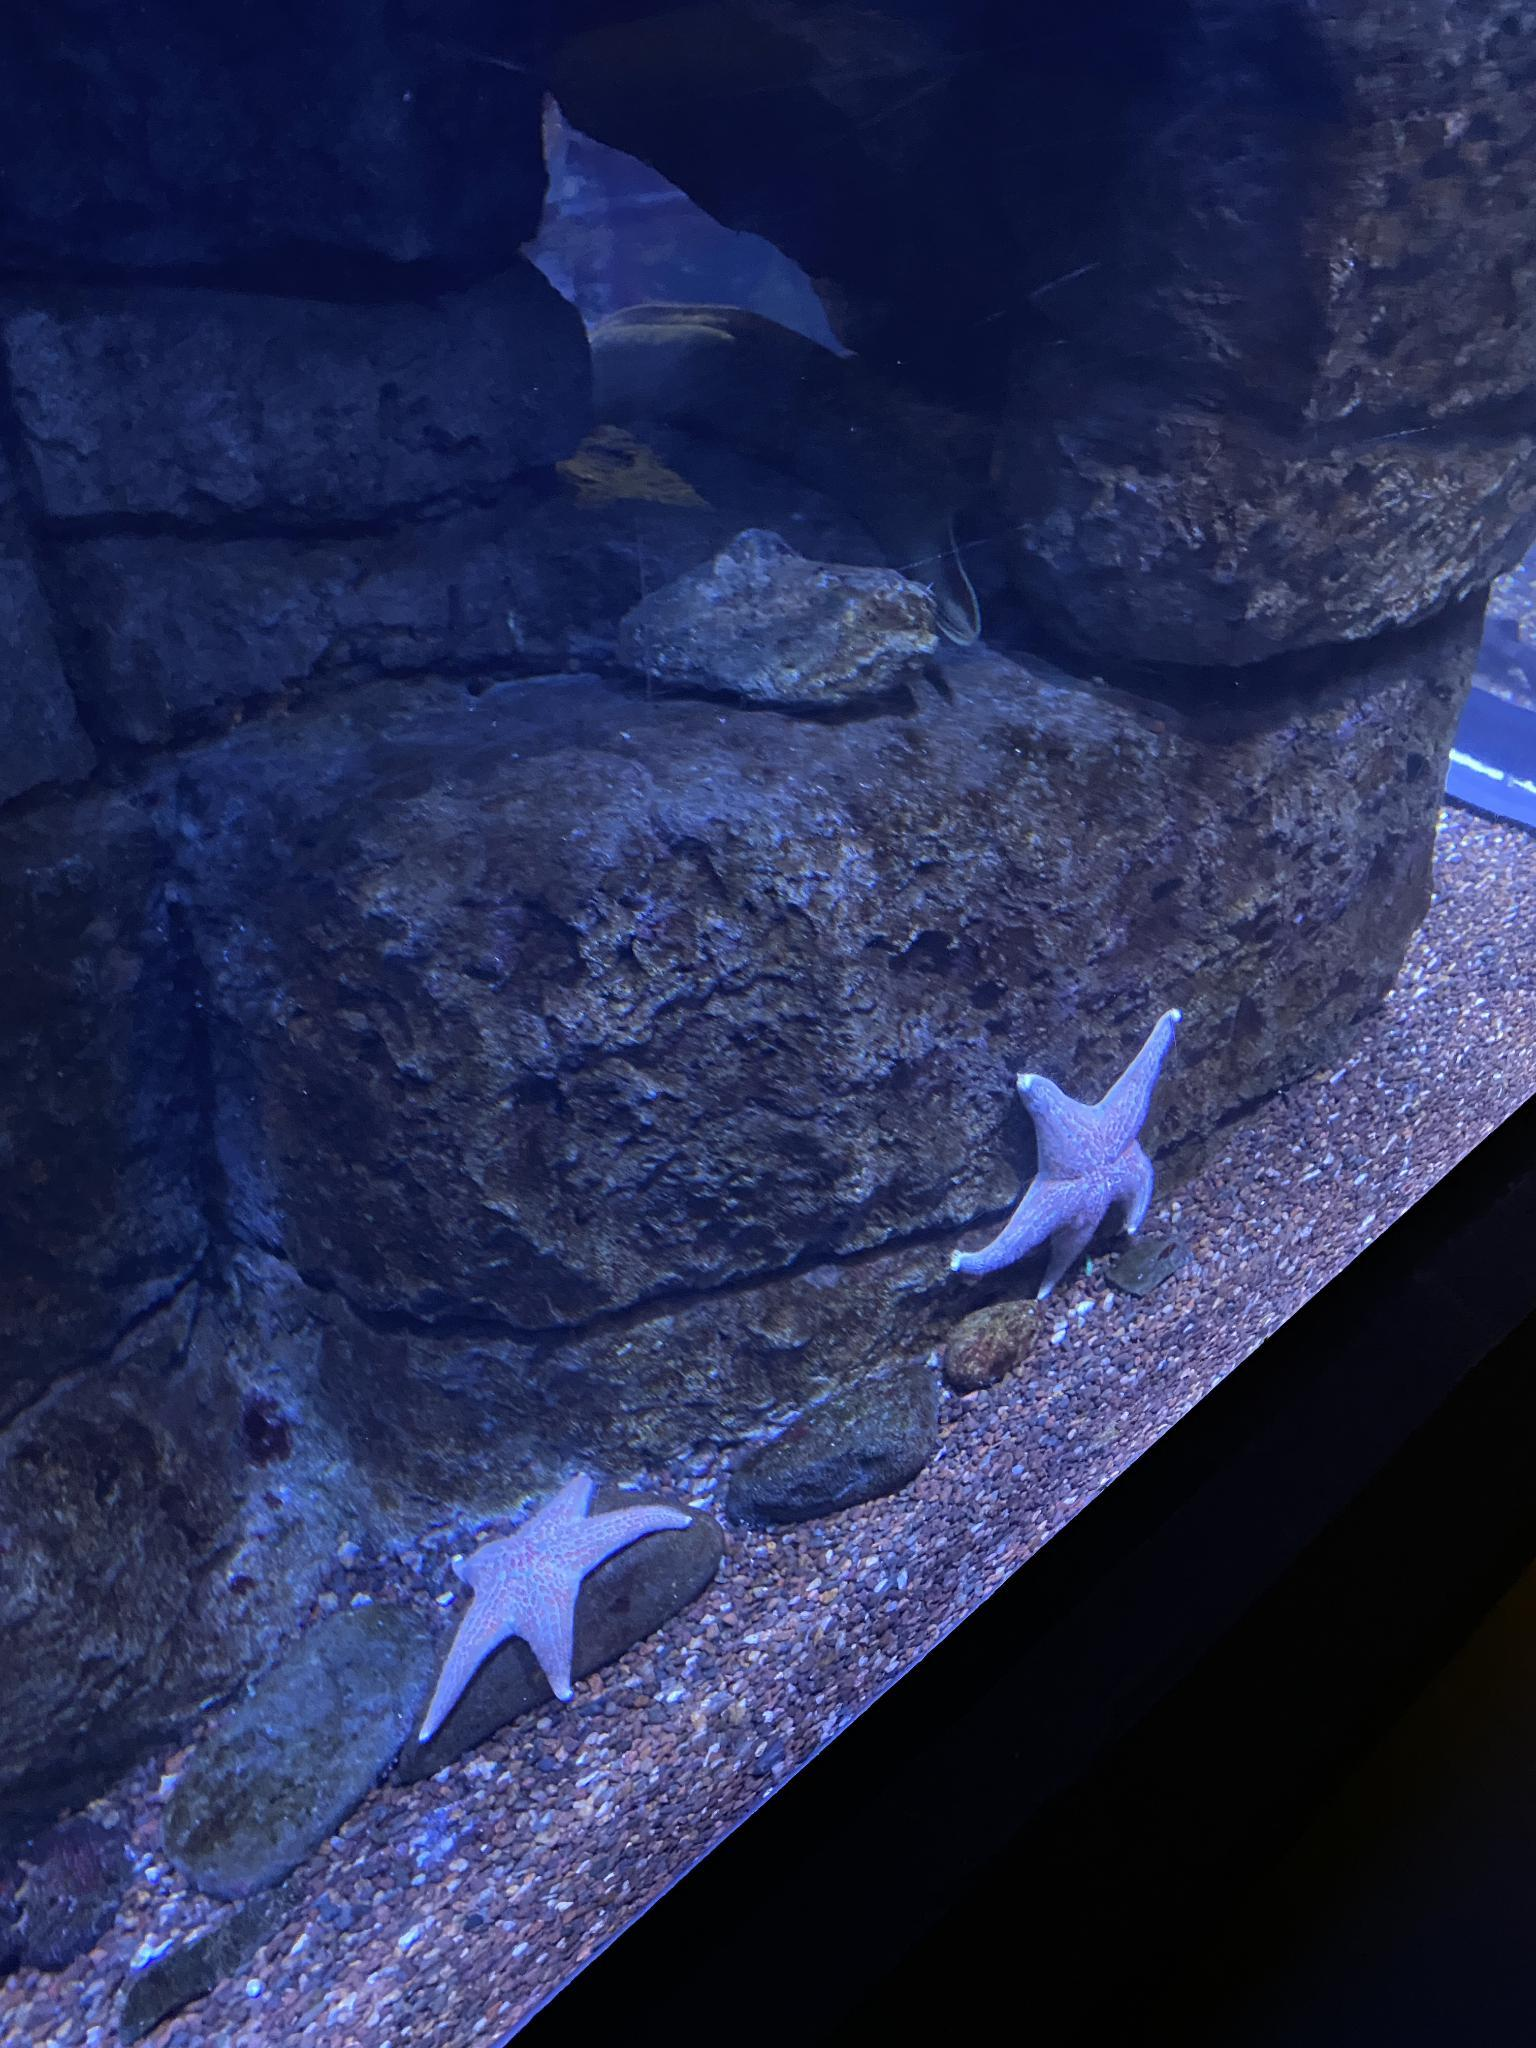starfish: (419, 1476, 692, 1737), (950, 1005, 1181, 1297)
